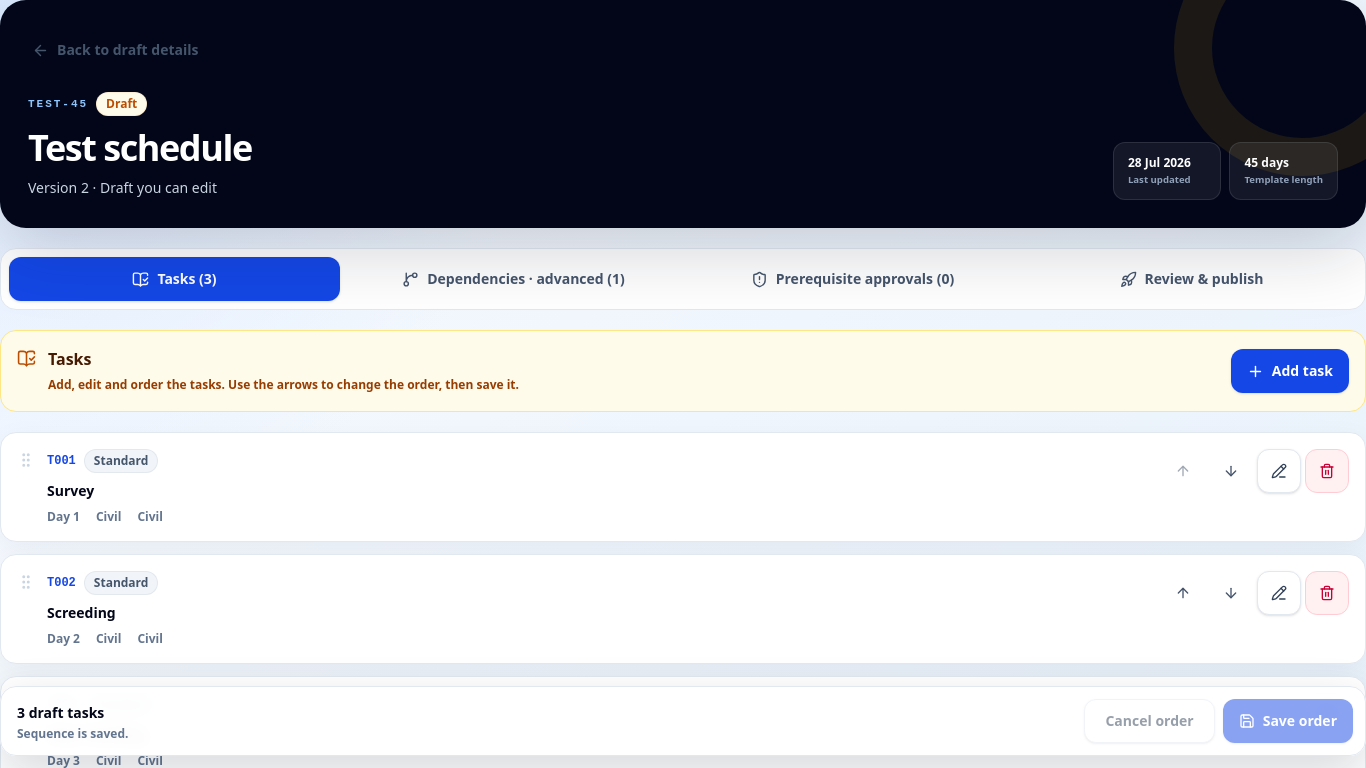
it: Can't start until › shows the tasks a task waits for, in plain words
This screenshot has width=1366, height=768.
Click the button named "Edit T002" at [1279, 593], box x1=1257 y1=571 x2=1301 y2=615
(page scrolled)
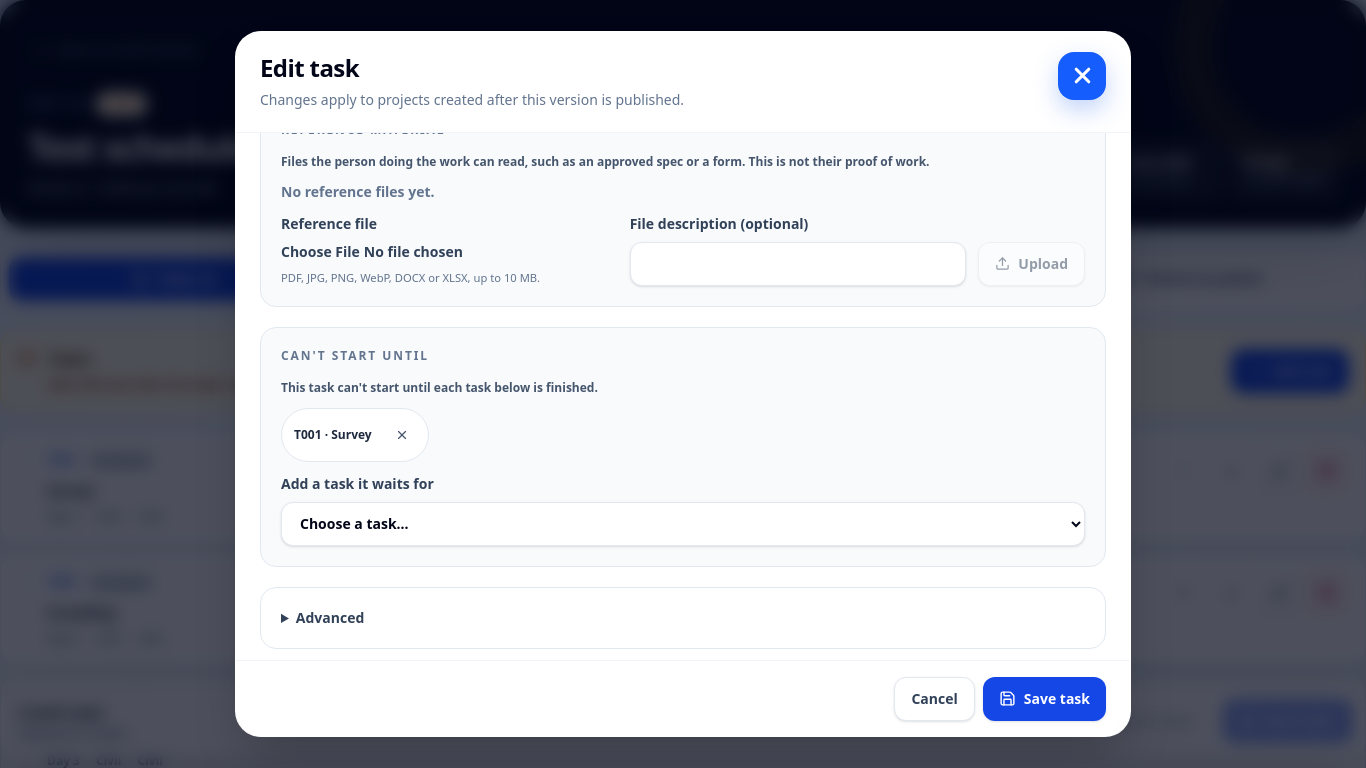
Expected: the list item "T001 · Survey" is shown, x1=281 y1=408 x2=429 y2=462
